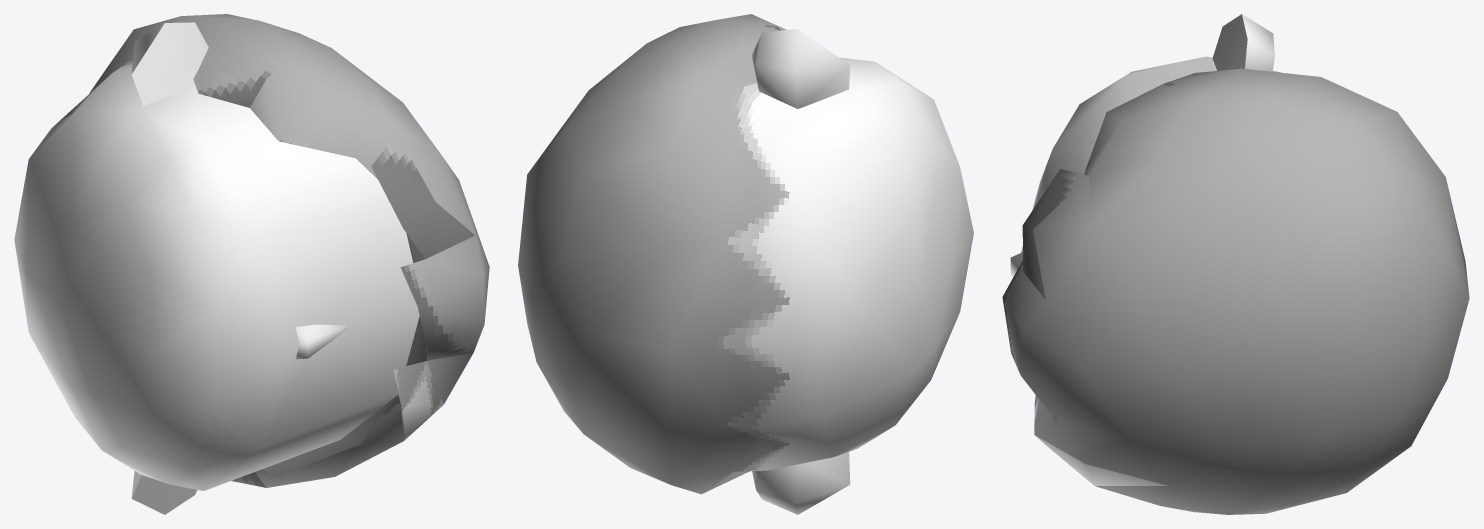
The model's file is girl12a.dae.
3 views of the same model, side by side, from view 1: azimuth 30°, elevation 25°; view 2: azimuth 150°, elevation 25°; view 3: azimuth 270°, elevation 25° (orthographic). The views are drawn at different scales.
Visible parts, largest first — view 1: girl12a; view 2: girl12a; view 3: girl12a.
Boxes of the visible parts, left/top/right/bottom form: girl12a: left=14, top=14, right=489, bottom=514; girl12a: left=518, top=14, right=973, bottom=514; girl12a: left=1002, top=14, right=1469, bottom=514.
Bounding box in the file's own units: 21.29 × 26.71 × 23.51.
Materials: 3 (1 with a texture image).
